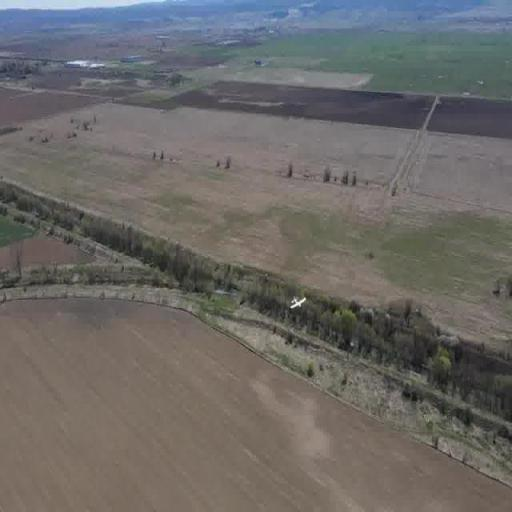uav: (284, 290, 310, 320)
